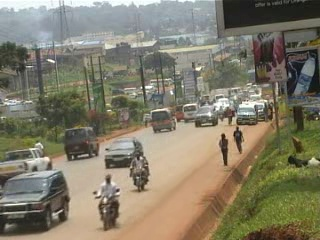Car: (0, 167, 72, 234), (102, 136, 146, 170), (192, 103, 220, 129), (210, 101, 228, 113)
Motorcycle: (92, 172, 122, 232), (128, 149, 153, 192), (217, 105, 226, 124)
